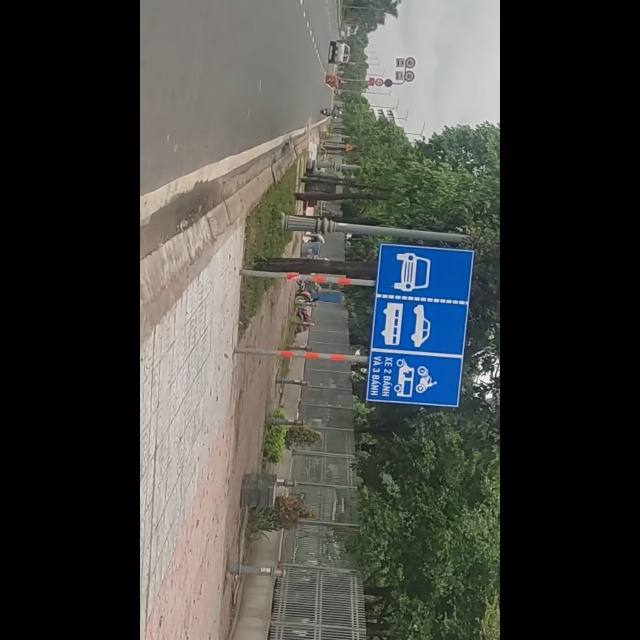bien_chi_dan: (392, 238, 594, 409)
